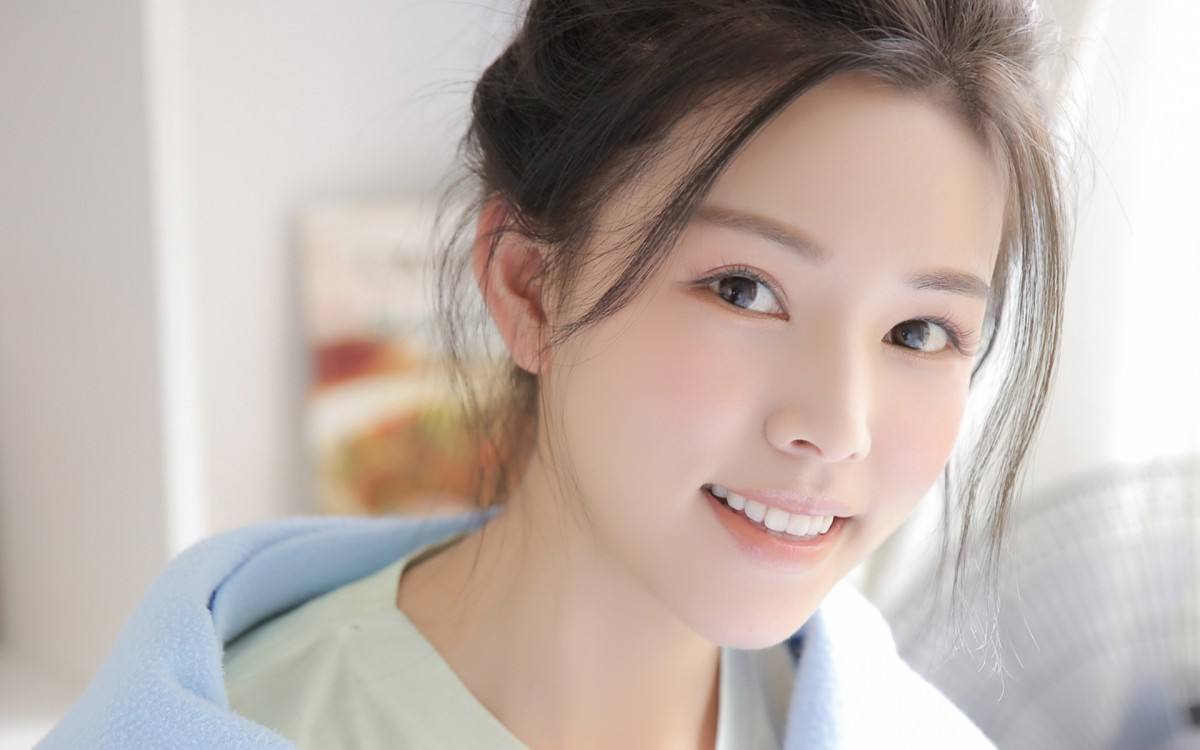person: (364, 12, 1134, 735)
